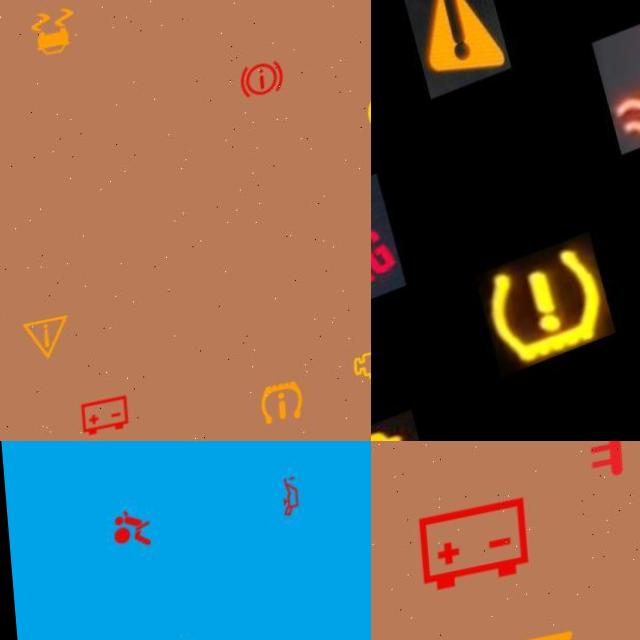Central Warning lamp: (397, 0, 508, 114)
Engine cooling system: (586, 19, 640, 177)
